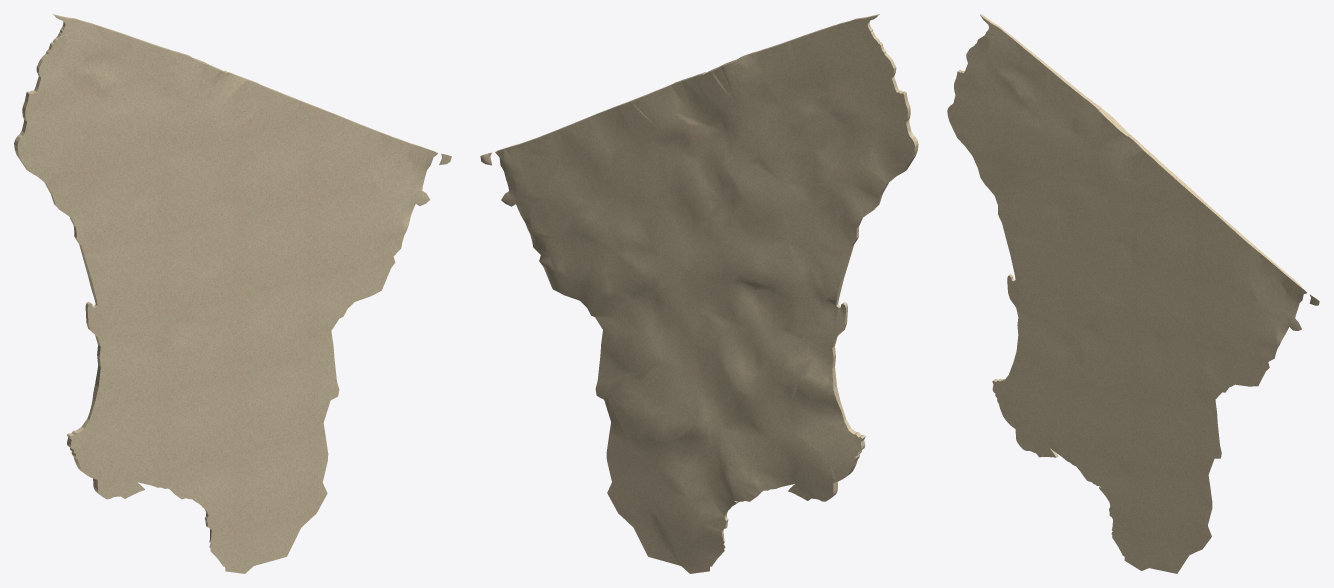
3 renders of one model, left to right at view 1: azimuth 30°, elevation 25°; view 2: azimuth 150°, elevation 25°; view 3: azimuth 330°, elevation 25°, orthographic. The views are drawn at different scales.
Size of the model in its own units: 9617 by 12758 by 211.
Materials: 6 (6 with a texture image).
